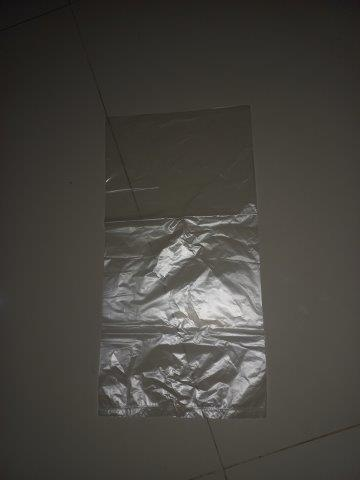plastik: (103, 104, 265, 415)
